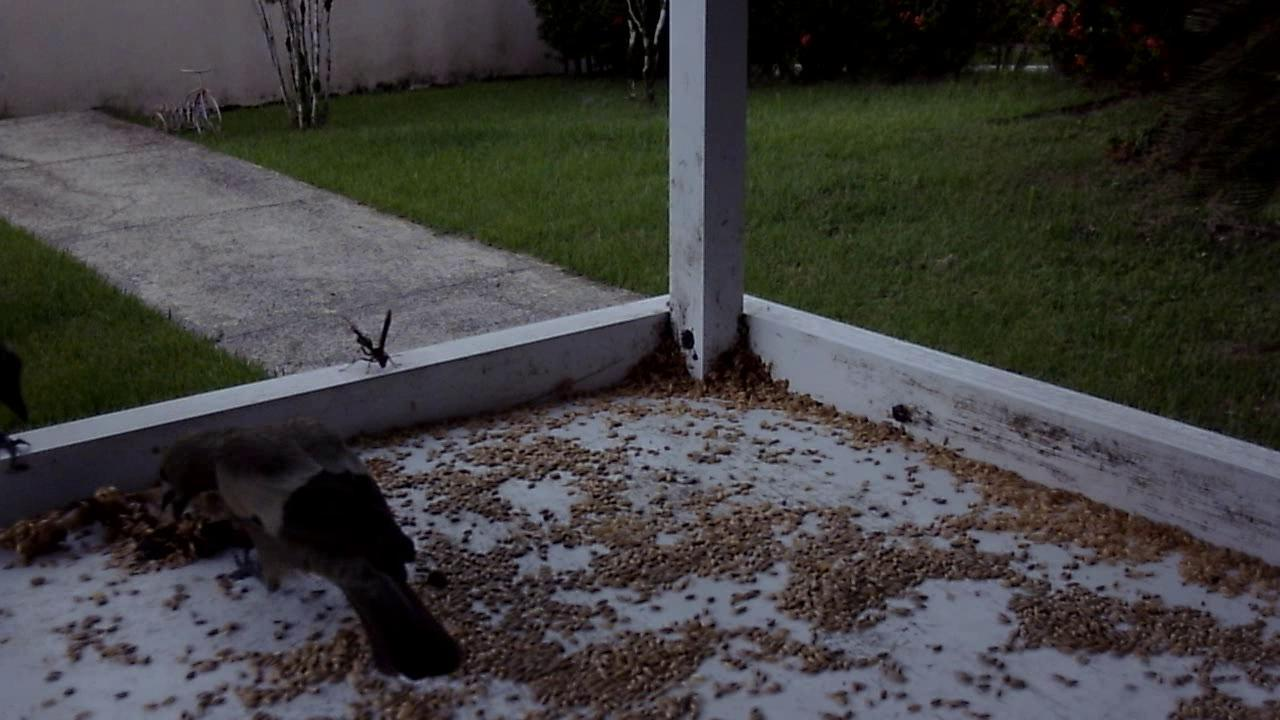sanhaco_do_coqueiro: (102, 403, 466, 672)
